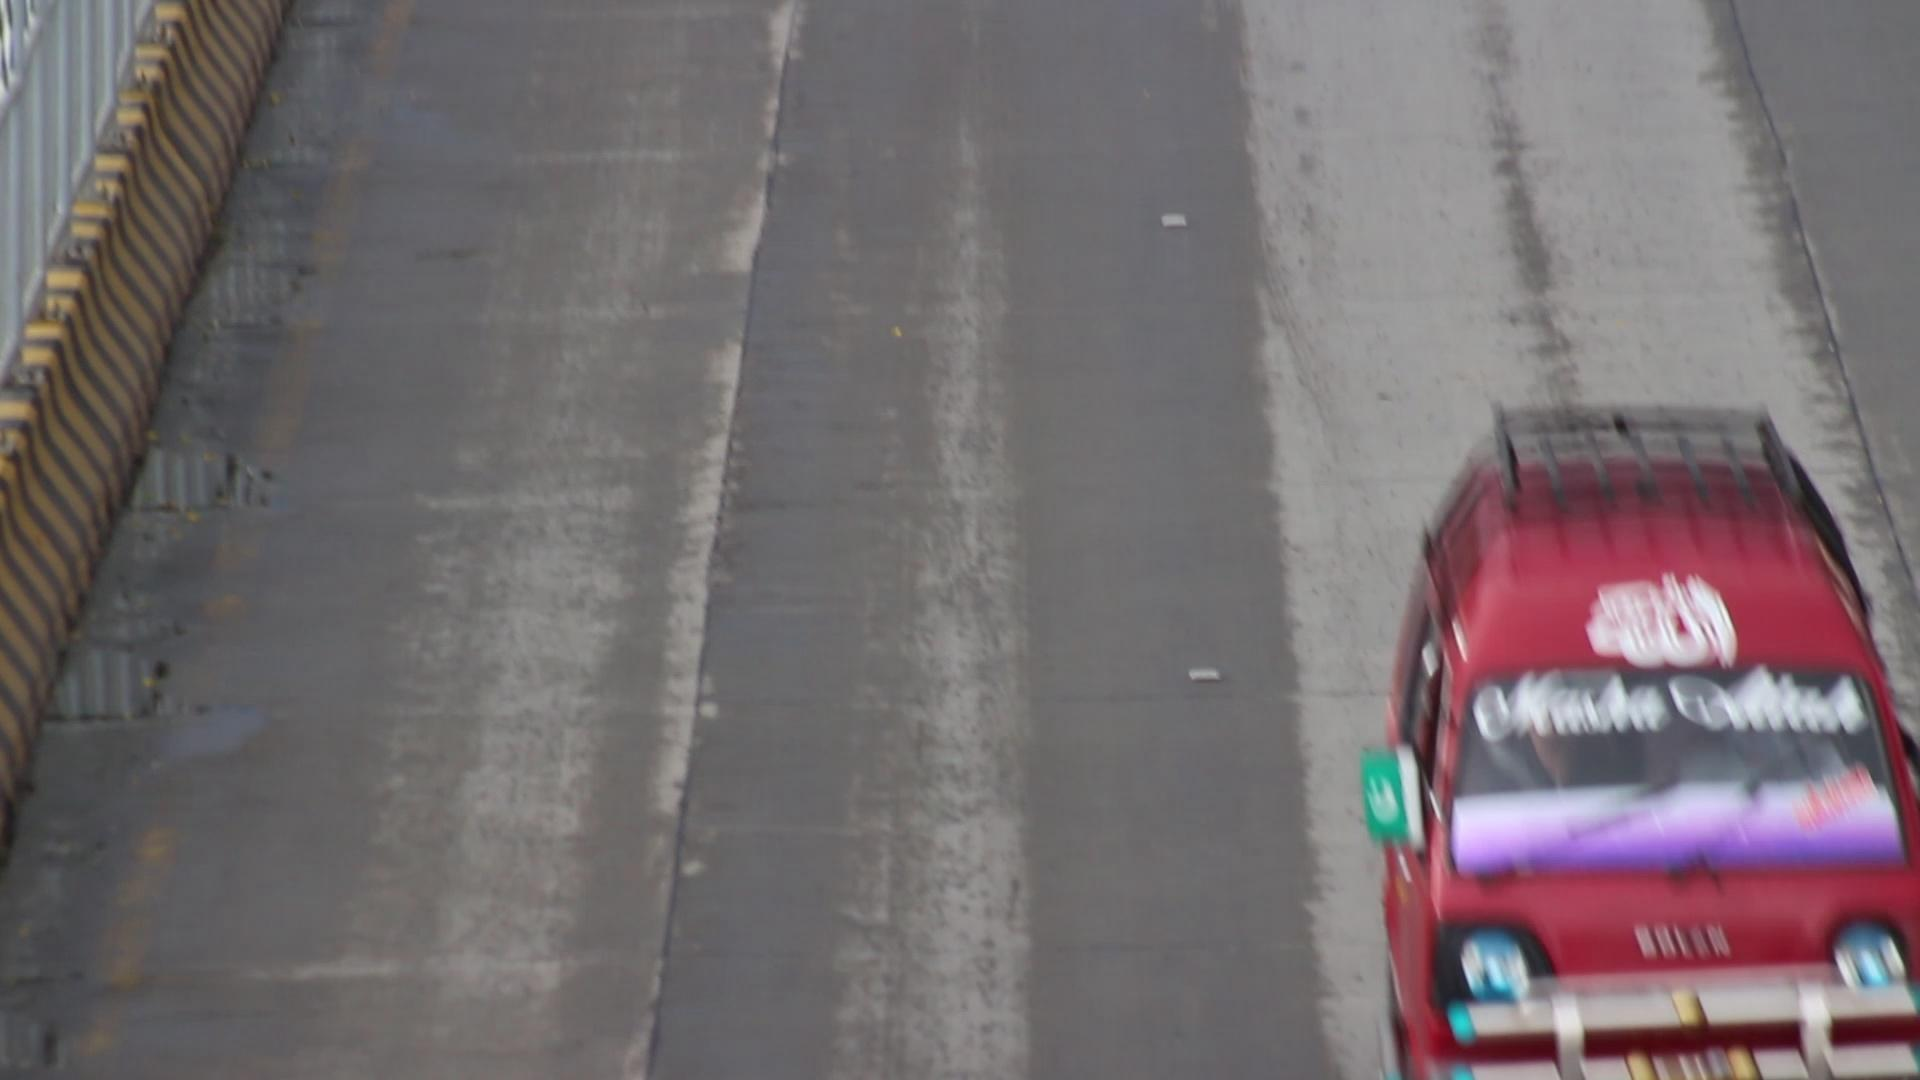windshield: (1440, 633, 1917, 886)
